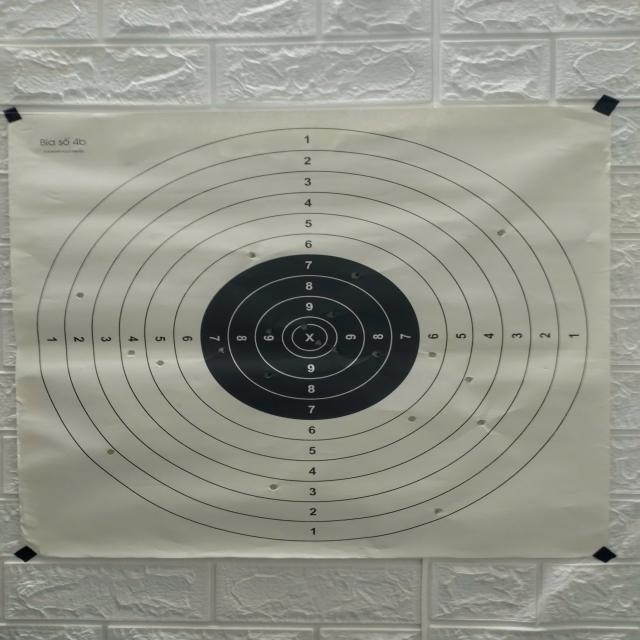bullet: (476, 419, 487, 426), (497, 228, 506, 236), (106, 448, 115, 456), (327, 310, 335, 318), (247, 251, 256, 258), (464, 376, 473, 383), (351, 272, 360, 279), (314, 339, 323, 346), (408, 416, 417, 423), (434, 508, 443, 515), (372, 351, 380, 358), (264, 372, 273, 378), (269, 484, 278, 490), (155, 360, 164, 366), (218, 347, 225, 354), (299, 324, 307, 330), (76, 292, 84, 298), (429, 352, 436, 358), (330, 346, 337, 352), (266, 328, 273, 334), (128, 350, 135, 356)
target: (9, 106, 610, 558)
